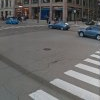crosswalk: (29, 49, 100, 100)
